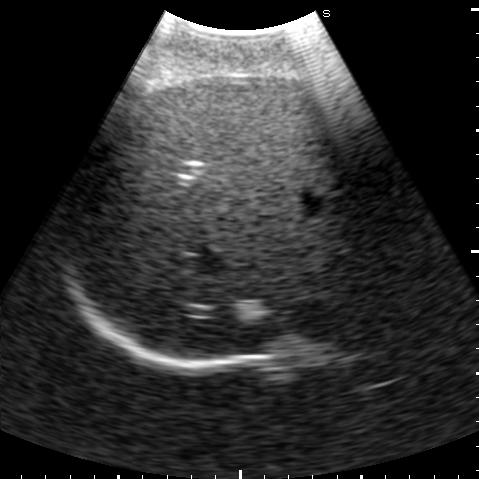S5: (126, 76, 335, 182)
S7: (80, 145, 185, 301)
S8: (128, 170, 375, 356)
Tumor: (232, 299, 274, 323)
